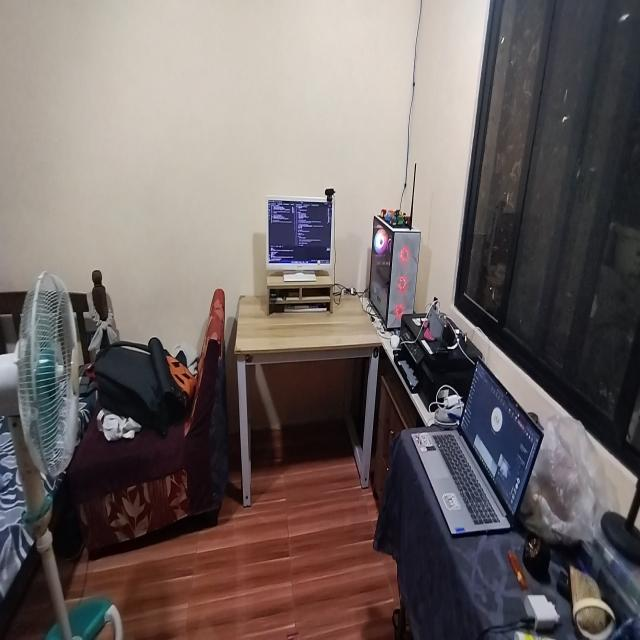table: (230, 286, 380, 504)
